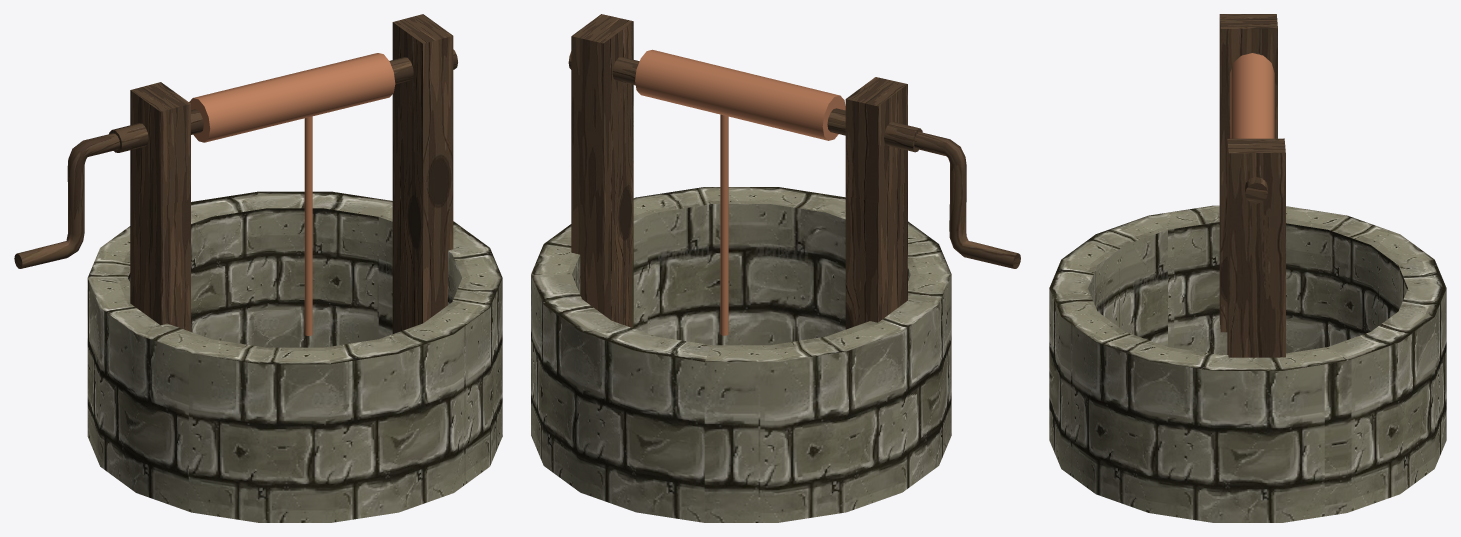
The model's file is wellDone.FBX.
The picture shows the model from 3 angles, left to right: view 1: azimuth 30°, elevation 25°; view 2: azimuth 150°, elevation 25°; view 3: azimuth 270°, elevation 25°; orthographic projection. The views are drawn at different scales.
Parts seen in each view (by area): view 1: Cylinder001; view 2: Cylinder001; view 3: Cylinder001.
Part boxes in pixels (box(x1,y1,x2,y2)): Cylinder001: box(14, 14, 502, 522); Cylinder001: box(531, 14, 1020, 522); Cylinder001: box(1049, 14, 1446, 522).
Size of the model in its own units: 146 by 115 by 116.
Materials: 1 (1 with a texture image).
